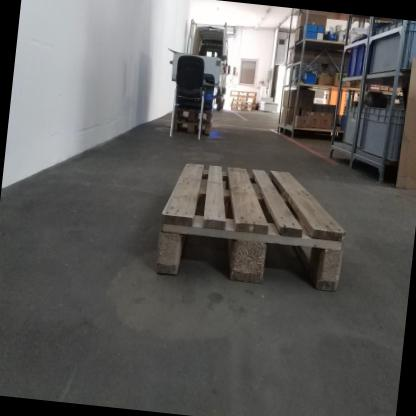BoxFace: (153, 156, 351, 298)
